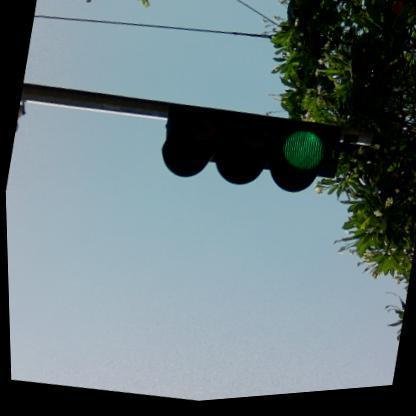green: (151, 91, 344, 212)
